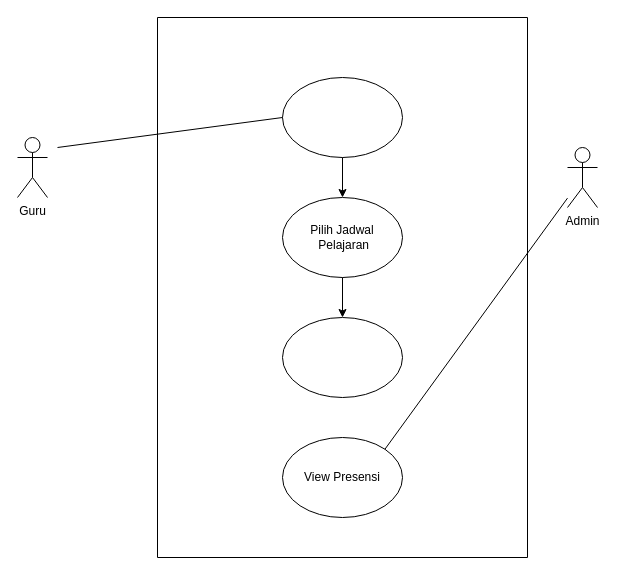
Image size: 617x575. Some labels were removed from this diagram. Here are the shapes that lost their labels. From the top down, the centre of each, then its label:
At pixel 342 117: "Login".
At pixel 342 357: "Mulai Presensi".
